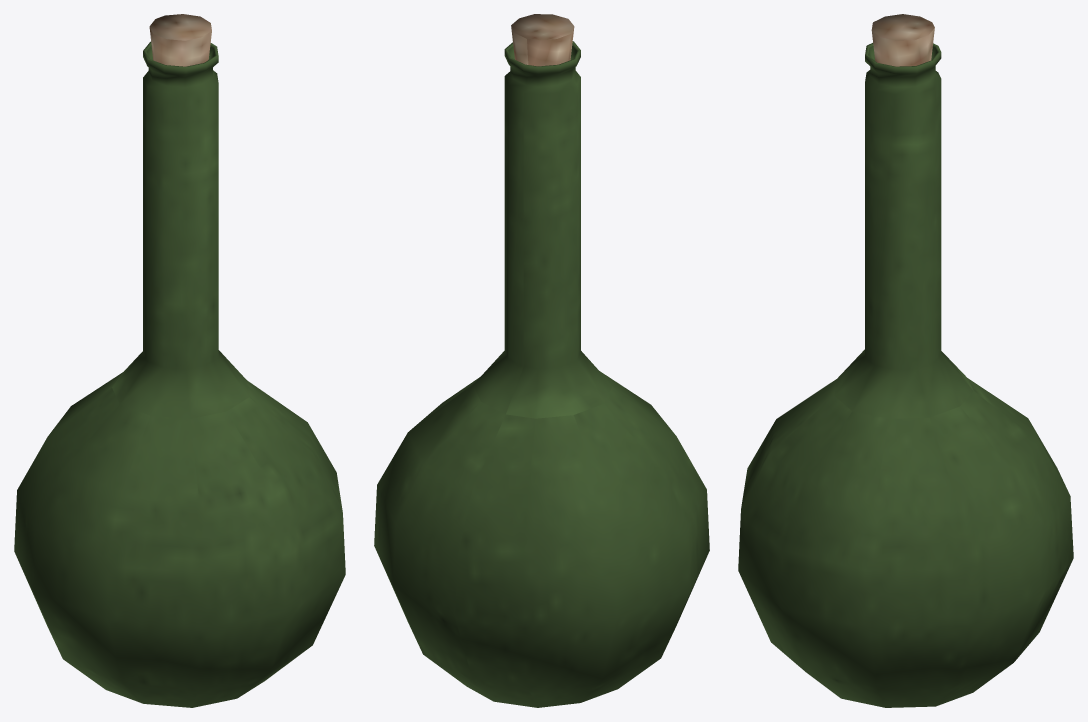
Rendered from MS_Bottle_2a.fbx.
3 views of the same model, side by side, from view 1: azimuth 30°, elevation 25°; view 2: azimuth 150°, elevation 25°; view 3: azimuth 270°, elevation 25° (orthographic).
Parts seen in each view (by area): view 1: MSH_Bottle_02; view 2: MSH_Bottle_02; view 3: MSH_Bottle_02.
Boxes of the visible parts, left/top/right/bottom form: MSH_Bottle_02: left=14, top=14, right=345, bottom=707; MSH_Bottle_02: left=374, top=14, right=709, bottom=707; MSH_Bottle_02: left=738, top=14, right=1073, bottom=707.
Bounding box in the file's own units: 8.04 × 17.08 × 8.05.
